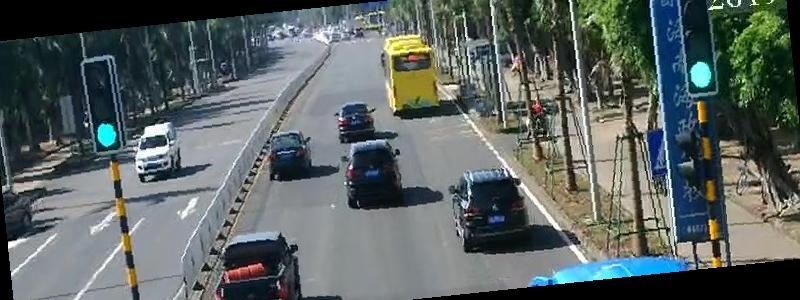green: (688, 61, 717, 91), (96, 122, 118, 148)
